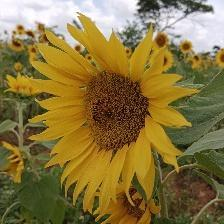sunflower: (32, 17, 192, 199)
